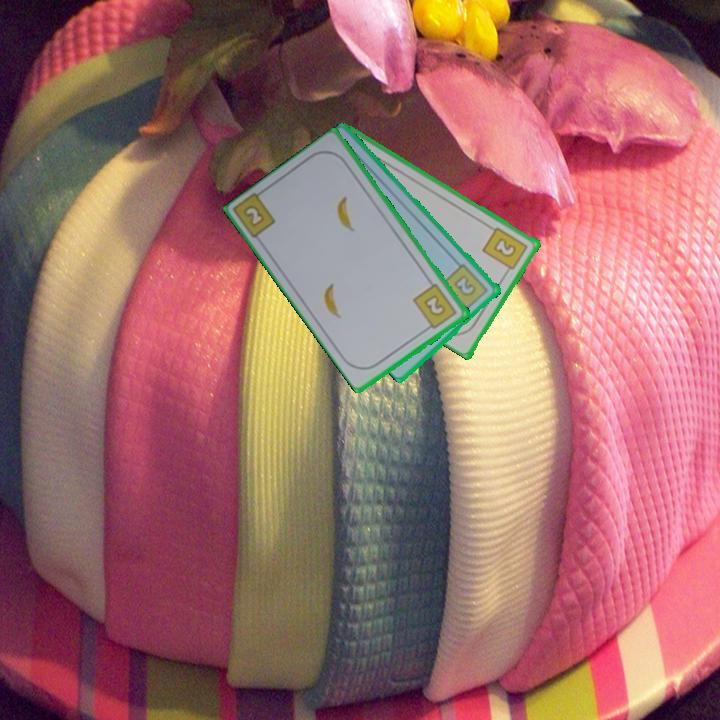2b: (440, 260, 491, 315), (480, 223, 531, 276), (410, 280, 460, 334), (242, 204, 265, 228)
